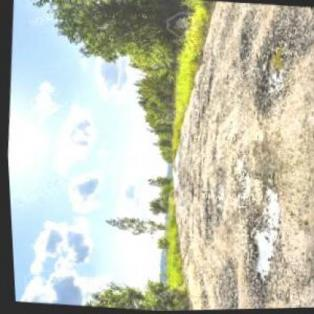Hueco: (232, 176, 284, 302), (245, 24, 300, 113), (232, 21, 258, 64)
